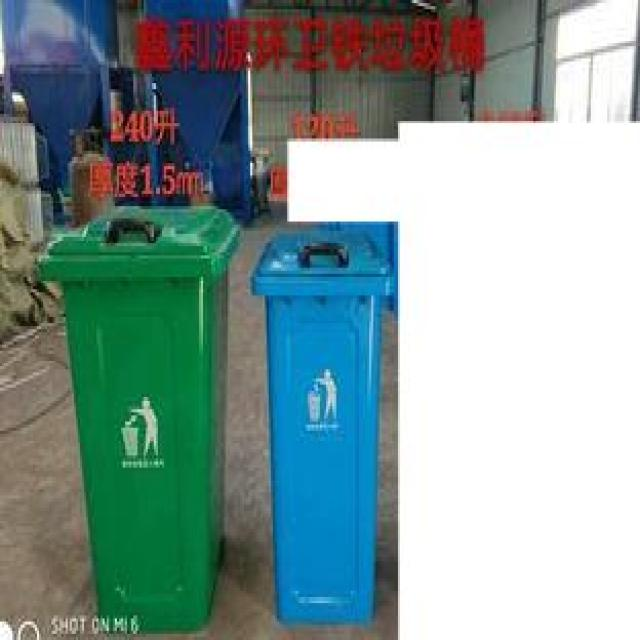garbage_bin: (33, 203, 240, 631), (248, 224, 392, 622)
